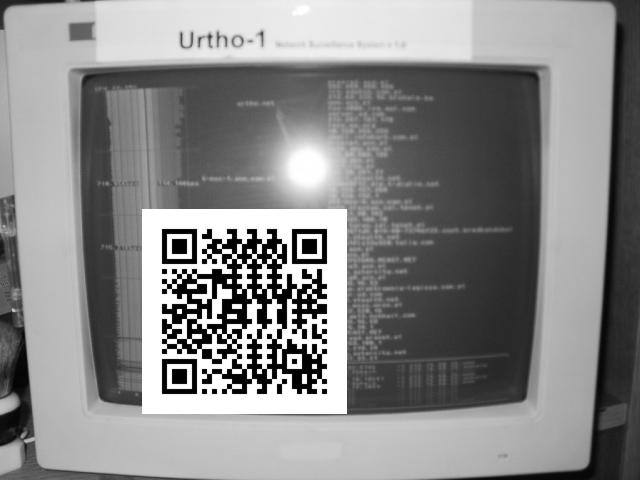qr_code: (143, 209, 347, 414)
